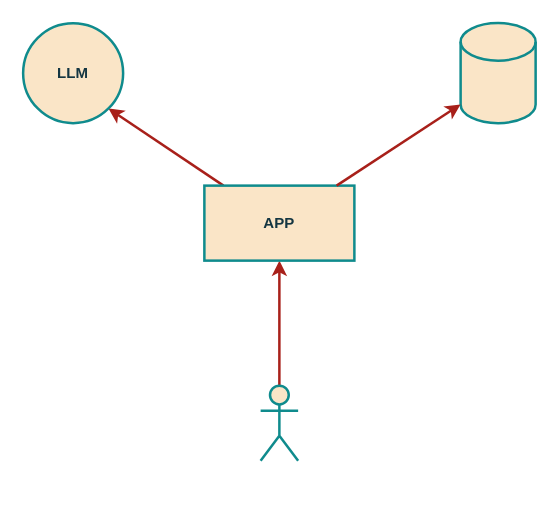
This 558x508 diagram has some shape labels left out. Each missing label, with the centre of its shape:
DB: the point at 497,72
User: the point at 279,422
